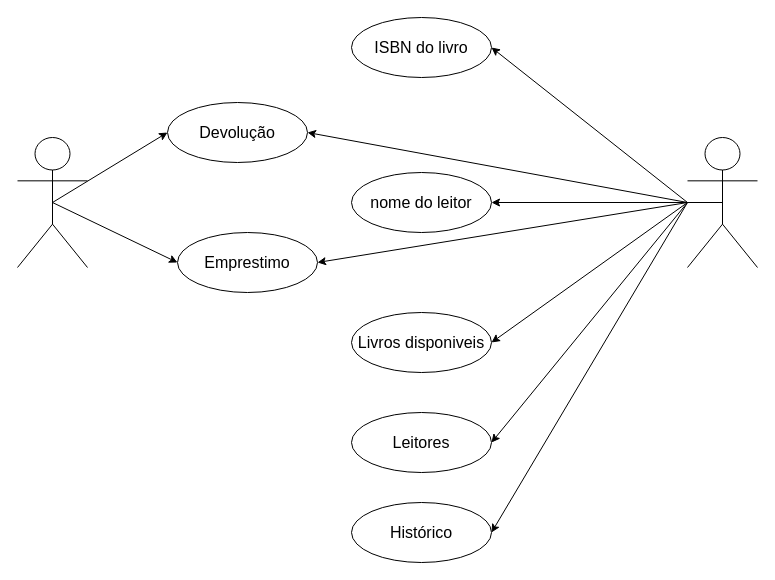
Some shapes in this 775 by 580 pixel diagram are drawn without their labels. The centre of each missing label's shape, as x and y in pixels:
"Bibliotecário" belongs at (722,202).
"Leitor" belongs at (52,202).
